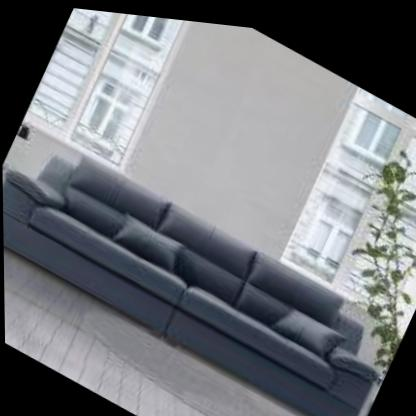Sofa: (1, 100, 413, 416)
